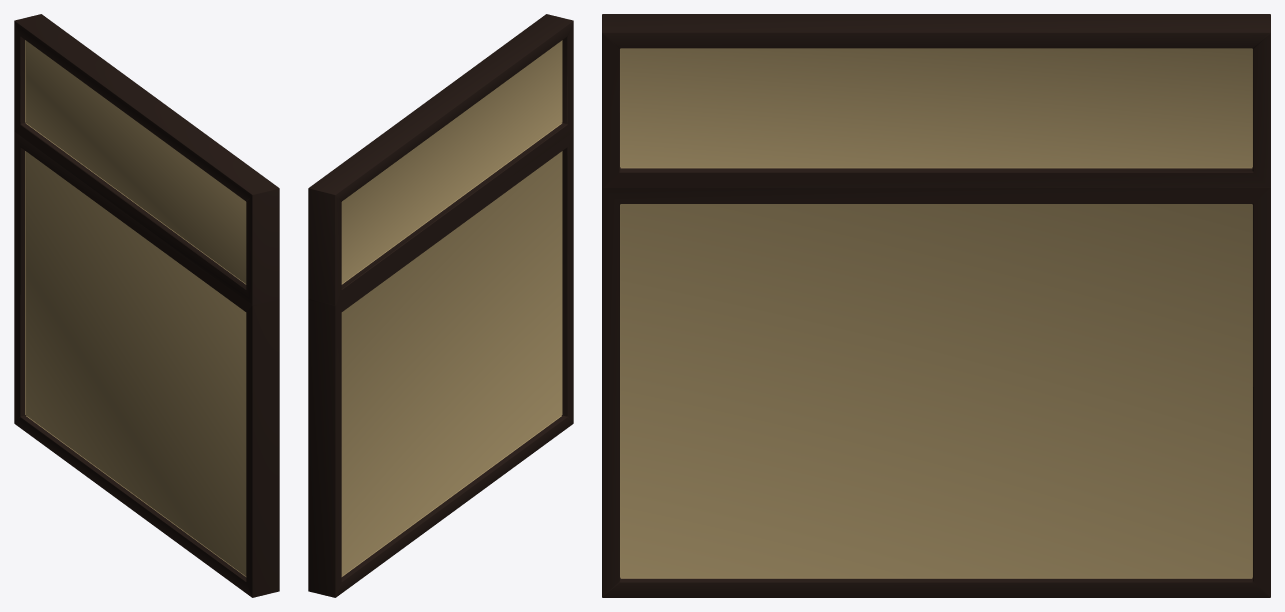
The model's file is WallModel.FBX.
3 views of the same model, side by side, from view 1: azimuth 30°, elevation 25°; view 2: azimuth 150°, elevation 25°; view 3: azimuth 270°, elevation 25° (orthographic). The views are drawn at different scales.
Parts seen in each view (by area): view 1: Box001; view 2: Box001; view 3: Box001.
Boxes of the visible parts, left/top/right/bottom form: Box001: left=14, top=14, right=279, bottom=597; Box001: left=308, top=14, right=573, bottom=597; Box001: left=602, top=14, right=1270, bottom=597.
Size of the model in its own units: 5 by 70 by 75.
